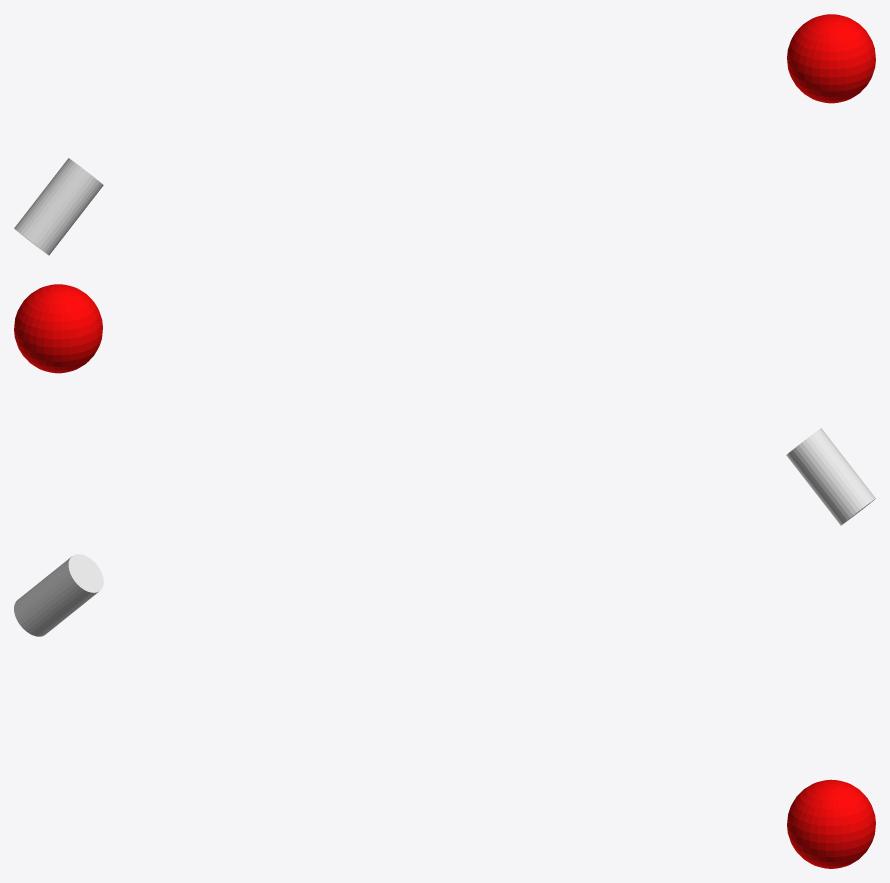
File: stadium.glb
3 renders of one model, top to bottom at view 1: azimuth 30°, elevation 25°; view 2: azimuth 150°, elevation 25°; view 3: azimuth 330°, elevation 25°, orthographic.
Parts seen in each view (by area): view 1: Target, Cannon; view 2: Target, Cannon; view 3: Target, Cannon.
Part boxes in pixels (x1,y1,x2,y2): Target: (787,14,875,103); Cannon: (14,158,103,255); Target: (14,284,102,373); Cannon: (786,428,875,525); Target: (787,779,875,868); Cannon: (14,554,103,636).
Size of what is drawn, in the model's own units: 44.12 by 6.12 by 4.
